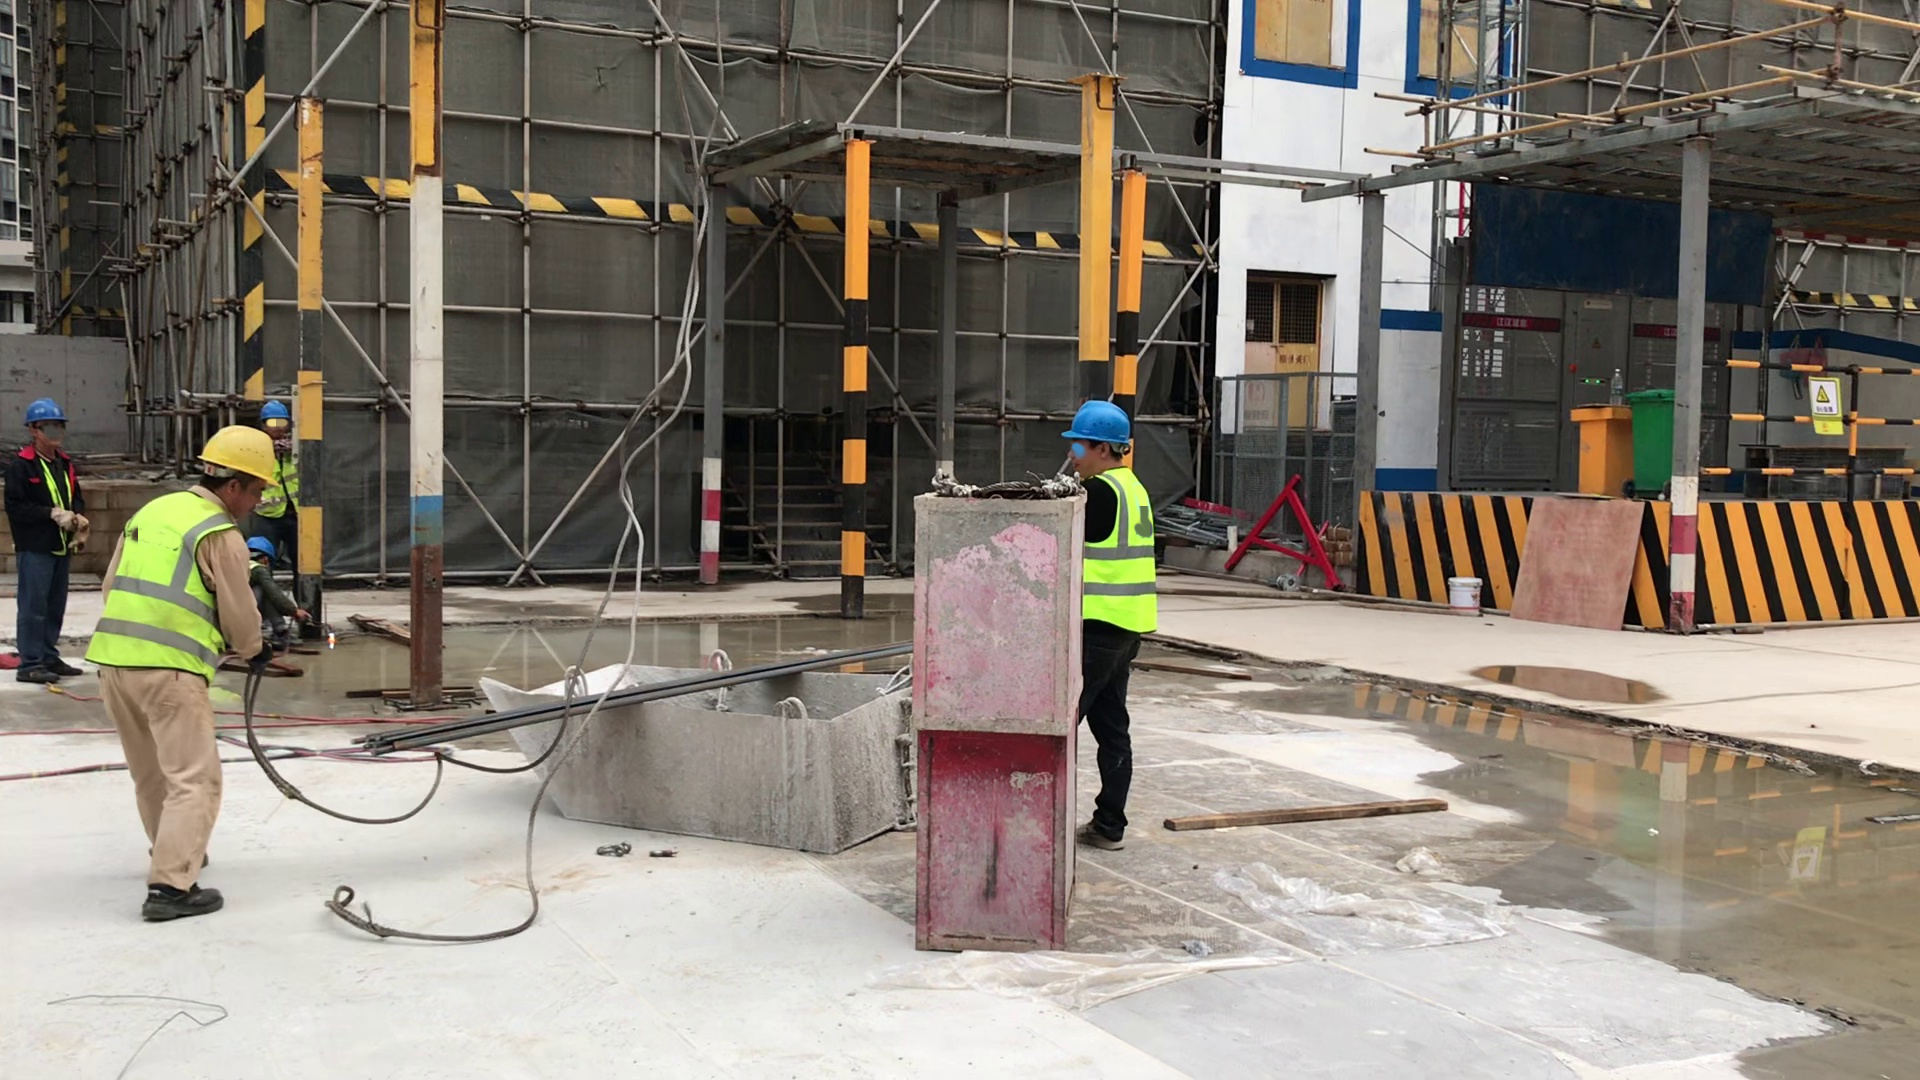helmet: (183, 410, 298, 499), (1056, 392, 1150, 451), (13, 392, 75, 431), (244, 534, 286, 560), (259, 399, 300, 422)
person: (93, 401, 328, 942), (1055, 391, 1179, 866), (5, 387, 96, 691), (250, 389, 321, 553), (243, 535, 308, 672)
vest: (86, 493, 251, 707), (1079, 466, 1179, 647), (21, 451, 93, 547), (258, 434, 306, 516)
